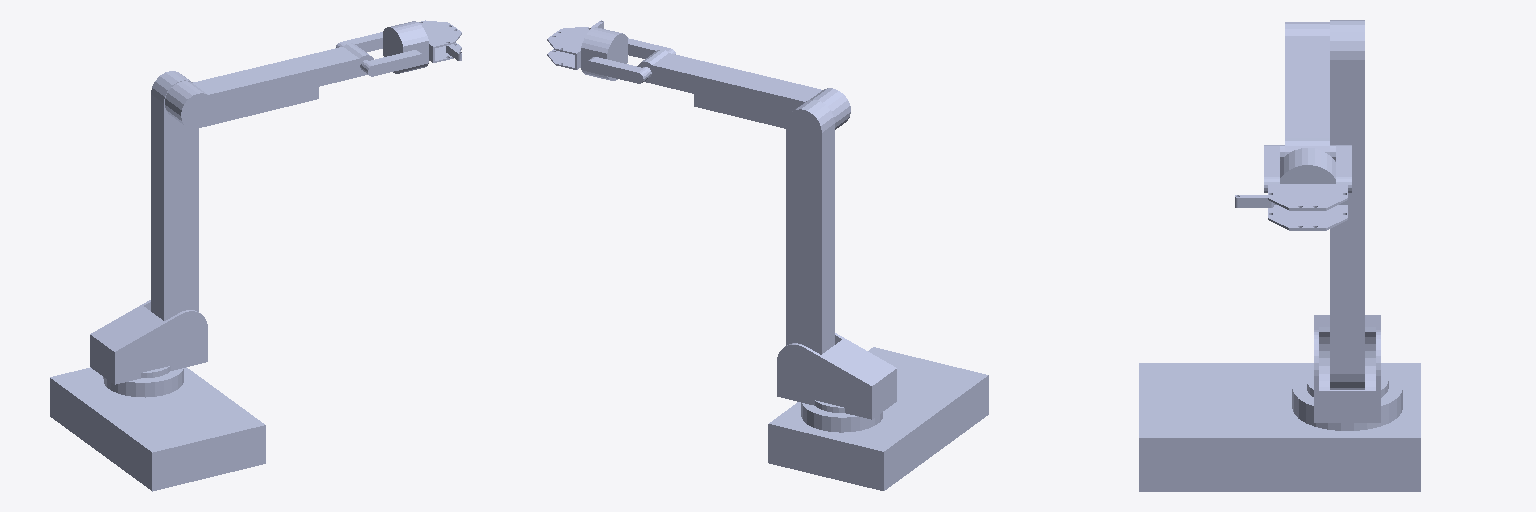
URDF robot description (urdf_brass23):
<?xml version="1.0" encoding="utf-8"?>
<!-- This URDF was automatically created by SolidWorks to URDF Exporter! Originally created by [author] ([email redacted]) 
     Commit Version: 1.6.0-4-g7f85cfe  Build Version: 1.6.7995.38578
     For more information, please see http://wiki.ros.org/sw_urdf_exporter -->
<robot
  name="urdf_brass23">

  <link name="world"/>
  <joint name="base_joint" type="fixed">
    <parent link="world"/>
    <child link="base_link"/>
    <origin rpy="0 0 0" xyz="0.0 0.0 0.0"/>
  </joint>

  <link
    name="base_link">
    <inertial>
      <origin
        xyz="-0.0195891869935232 -0.0769575203316984 0.0390553333294598"
        rpy="0 0 0" />
      <mass
        value="5.73138441310101" />
      <inertia
        ixx="0.0584695059646706"
        ixy="-0.000622271712138452"
        ixz="-0.000371100221057113"
        iyy="0.0249405833126223"
        iyz="-0.00145789372558152"
        izz="0.0770694774964865" />
    </inertial>
    <visual>
      <origin
        xyz="0 0 0"
        rpy="0 0 0" />
      <geometry>
        <mesh
          filename="package://urdf_brass23/meshes/base_link.STL" />
      </geometry>
      <material
        name="">
        <color
          rgba="0.792156862745098 0.819607843137255 0.933333333333333 1" />
      </material>
    </visual>
    <collision>
      <origin
        xyz="0 0 0"
        rpy="0 0 0" />
      <geometry>
        <mesh
          filename="package://urdf_brass23/meshes/base_link.STL" />
      </geometry>
    </collision>
  </link>
  <link
    name="link_1">
    <inertial>
      <origin
        xyz="-0.00356182087654455 1.38777878078145E-17 -0.00800624245087949"
        rpy="0 0 0" />
      <mass
        value="0.848214016521327" />
      <inertia
        ixx="0.00103959567914763"
        ixy="-2.74670115765387E-19"
        ixz="9.18211312032036E-05"
        iyy="0.00237992295197046"
        iyz="4.75457577451699E-21"
        izz="0.00243448325997905" />
    </inertial>
    <visual>
      <origin
        xyz="0 0 0"
        rpy="0 0 0" />
      <geometry>
        <mesh
          filename="package://urdf_brass23/meshes/link_1.STL" />
      </geometry>
      <material
        name="">
        <color
          rgba="0.792156862745098 0.819607843137255 0.933333333333333 1" />
      </material>
    </visual>
    <collision>
      <origin
        xyz="0 0 0"
        rpy="0 0 0" />
      <geometry>
        <mesh
          filename="package://urdf_brass23/meshes/link_1.STL" />
      </geometry>
    </collision>
  </link>
  <joint
    name="joint_base_link1"
    type="revolute">
    <origin
      xyz="0 0 0.1413"
      rpy="0 0 0" />
    <parent
      link="base_link" />
    <child
      link="link_1" />
    <axis
      xyz="0 0 -1" />
    <limit
      lower="-3.14"
      upper="3.14"
      effort="300"
      velocity="3" />
  </joint>
  <link
    name="link_2">
    <inertial>
      <origin
        xyz="-1.11022302462516E-16 0 0.2115"
        rpy="0 0 0" />
      <mass
        value="1.39301428762465" />
      <inertia
        ixx="0.0266408532435391"
        ixy="1.11457323264441E-19"
        ixz="9.44587968972521E-18"
        iyy="0.0269479441638445"
        iyz="-6.98781372432547E-20"
        izz="0.000736371489941689" />
    </inertial>
    <visual>
      <origin
        xyz="0 0 0"
        rpy="0 0 0" />
      <geometry>
        <mesh
          filename="package://urdf_brass23/meshes/link_2.STL" />
      </geometry>
      <material
        name="">
        <color
          rgba="0.792156862745098 0.819607843137255 0.933333333333333 1" />
      </material>
    </visual>
    <collision>
      <origin
        xyz="0 0 0"
        rpy="0 0 0" />
      <geometry>
        <mesh
          filename="package://urdf_brass23/meshes/link_2.STL" />
      </geometry>
    </collision>
  </link>
  <joint
    name="joint_link12"
    type="revolute">
    <origin
      xyz="0.06 0 0.019105"
      rpy="0 0 0" />
    <parent
      link="link_1" />
    <child
      link="link_2" />
    <axis
      xyz="0 1 0" />
    <limit
      lower="-0.0678"
      upper="1.57"
      effort="300"
      velocity="3" />
  </joint>
  <link
    name="link_3">
    <inertial>
      <origin
        xyz="0.137320910394112 -0.03457682365094 -0.000678095028483316"
        rpy="0 0 0" />
      <mass
        value="1.02500185175382" />
      <inertia
        ixx="0.000525009775022775"
        ixy="-2.15000546515497E-06"
        ixz="-0.000266801984813287"
        iyy="0.0107059373115838"
        iyz="-1.15089425773388E-07"
        izz="0.0107034550616419" />
    </inertial>
    <visual>
      <origin
        xyz="0 0 0"
        rpy="0 0 0" />
      <geometry>
        <mesh
          filename="package://urdf_brass23/meshes/link_3.STL" />
      </geometry>
      <material
        name="">
        <color
          rgba="0.792156862745098 0.819607843137255 0.933333333333333 1" />
      </material>
    </visual>
    <collision>
      <origin
        xyz="0 0 0"
        rpy="0 0 0" />
      <geometry>
        <mesh
          filename="package://urdf_brass23/meshes/link_3.STL" />
      </geometry>
    </collision>
  </link>
  <joint
    name="joint_link23"
    type="revolute">
    <origin
      xyz="0 -0.014412 0.423"
      rpy="0 0 0" />
    <parent
      link="link_2" />
    <child
      link="link_3" />
    <axis
      xyz="0 1 0" />
    <limit
      lower="-3.5"
      upper="0.47"
      effort="300"
      velocity="3" />
  </joint>
  <link
    name="link_4">
    <inertial>
      <origin
        xyz="0.0812648935995959 -0.0339716345103549 -0.000337970756351835"
        rpy="0 0 0" />
      <mass
        value="0.315715418364091" />
      <inertia
        ixx="0.000345424808414422"
        ixy="-3.93247408498288E-07"
        ixz="7.45108952662568E-07"
        iyy="0.000377121844568275"
        iyz="-6.32459247591559E-09"
        izz="0.000522765459090098" />
    </inertial>
    <visual>
      <origin
        xyz="0 0 0"
        rpy="0 0 0" />
      <geometry>
        <mesh
          filename="package://urdf_brass23/meshes/link_4.STL" />
      </geometry>
      <material
        name="">
        <color
          rgba="0.792156862745098 0.819607843137255 0.933333333333333 1" />
      </material>
    </visual>
    <collision>
      <origin
        xyz="0 0 0"
        rpy="0 0 0" />
      <geometry>
        <mesh
          filename="package://urdf_brass23/meshes/link_4.STL" />
      </geometry>
    </collision>
  </link>
  <joint
    name="joint_link34"
    type="revolute">
    <origin
      xyz="0.32206 0 0.0092107"
      rpy="0 0 0" />
    <parent
      link="link_3" />
    <child
      link="link_4" />
    <axis
      xyz="0 1 0" />
    <limit
      lower="-2"
      upper="2"
      effort="300"
      velocity="3" />
  </joint>
  <link
    name="end_effector">
    <inertial>
      <origin
        xyz="0.0270974503430043 5.55111512312578E-17 0"
        rpy="0 0 0" />
      <mass
        value="0.0433772870836576" />
      <inertia
        ixx="3.74711243635196E-05"
        ixy="-4.1001365407184E-20"
        ixz="1.30760711232383E-20"
        iyy="2.58699540224155E-05"
        iyz="1.17537053137252E-20"
        izz="4.93701113133164E-05" />
    </inertial>
    <visual>
      <origin
        xyz="0 0 0"
        rpy="0 0 0" />
      <geometry>
        <mesh
          filename="package://urdf_brass23/meshes/end_effector.STL" />
      </geometry>
      <material
        name="">
        <color
          rgba="0.792156862745098 0.819607843137255 0.933333333333333 1" />
      </material>
    </visual>
    <collision>
      <origin
        xyz="0 0 0"
        rpy="0 0 0" />
      <geometry>
        <mesh
          filename="package://urdf_brass23/meshes/end_effector.STL" />
      </geometry>
    </collision>
  </link>
  <joint
    name="joint_link4_ee"
    type="revolute">
    <origin
      xyz="0.1189 -0.034038 -0.00049933"
      rpy="0 0.0041123 0" />
    <parent
      link="link_4" />
    <child
      link="end_effector" />
    <axis
      xyz="1 0 0" />
    <limit
      lower="-3.14"
      upper="3.14"
      effort="300"
      velocity="3" />
  </joint>
  <link
    name="link_outer_right">
    <inertial>
      <origin
        xyz="2.04475325560338E-13 -0.02 0.00504999999999994"
        rpy="0 0 0" />
      <mass
        value="0.00436066372423022" />
      <inertia
        ixx="6.76814010778924E-07"
        ixy="5.94814221584996E-18"
        ixz="1.22009140351572E-23"
        iyy="9.49591877535052E-08"
        iyz="-2.03466283798545E-22"
        izz="6.31352558839343E-07" />
    </inertial>
    <visual>
      <origin
        xyz="0 0 0"
        rpy="0 0 0" />
      <geometry>
        <mesh
          filename="package://urdf_brass23/meshes/link_outer_right.STL" />
      </geometry>
      <material
        name="">
        <color
          rgba="0.792156862745098 0.819607843137255 0.933333333333333 1" />
      </material>
    </visual>
    <collision>
      <origin
        xyz="0 0 0"
        rpy="0 0 0" />
      <geometry>
        <mesh
          filename="package://urdf_brass23/meshes/link_outer_right.STL" />
      </geometry>
    </collision>
  </link>
  <joint
    name="joint_ee_outer_right"
    type="revolute">
    <origin
      xyz="0.030526 -0.04522 0"
      rpy="0 0 0" />
    <parent
      link="end_effector" />
    <child
      link="link_outer_right" />
    <axis
      xyz="0 0 1" />
    <limit
      lower="-3.14"
      upper="3.14"
      effort="300"
      velocity="3" />
  </joint>

  <transmission name="base_link_trans">
  <type>transmission_interface/SimpleTransmission</type>
    <joint name="joint_base_link1">
    <hardwareInterface>hardware_interface/PositionJointInterface</hardwareInterface>
    </joint>
    <actuator name="joint_base_link1_motor">
    <hardwareInterface>hardware_interface/PositionJointInterface</hardwareInterface>
        <mechanicalReduction>1</mechanicalReduction>
    </actuator>
  </transmission>

  <transmission name="link_1_trans">
  <type>transmission_interface/SimpleTransmission</type>
    <joint name="joint_link12">
    <hardwareInterface>hardware_interface/PositionJointInterface</hardwareInterface>
    </joint>
    <actuator name="joint_link12_motor">
    <hardwareInterface>hardware_interface/PositionJointInterface</hardwareInterface>
        <mechanicalReduction>1</mechanicalReduction>
    </actuator>
  </transmission>

  <transmission name="link_2_trans">
  <type>transmission_interface/SimpleTransmission</type>
    <joint name="joint_link23">
    <hardwareInterface>hardware_interface/PositionJointInterface</hardwareInterface>
    </joint>
    <actuator name="joint_link23_motor">
    <hardwareInterface>hardware_interface/PositionJointInterface</hardwareInterface>
        <mechanicalReduction>1</mechanicalReduction>
    </actuator>
  </transmission>

  <transmission name="link_3_trans">
  <type>transmission_interface/SimpleTransmission</type>
    <joint name="joint_link34">
    <hardwareInterface>hardware_interface/PositionJointInterface</hardwareInterface>
    </joint>
    <actuator name="joint_link34_motor">
    <hardwareInterface>hardware_interface/PositionJointInterface</hardwareInterface>
        <mechanicalReduction>1</mechanicalReduction>
    </actuator>
  </transmission>

  <transmission name="link_4_trans">
  <type>transmission_interface/SimpleTransmission</type>
    <joint name="joint_link4_ee">
    <hardwareInterface>hardware_interface/PositionJointInterface</hardwareInterface>
    </joint>
    <actuator name="joint_link4_ee_motor">
    <hardwareInterface>hardware_interface/PositionJointInterface</hardwareInterface>
        <mechanicalReduction>1</mechanicalReduction>
    </actuator>
  </transmission>

  <transmission name="link_outer_right_trans">
  <type>transmission_interface/SimpleTransmission</type>
    <joint name="joint_ee_outer_right">
    <hardwareInterface>hardware_interface/PositionJointInterface</hardwareInterface>
    </joint>
    <actuator name="joint_ee_outer_right">
    <hardwareInterface>hardware_interface/PositionJointInterface</hardwareInterface>
        <mechanicalReduction>1</mechanicalReduction>
    </actuator>
  </transmission>

  <gazebo>
    <plugin name="control" filename="libgazebo_ros_control.so">
      <robotNamespace>/</robotNamespace>
    </plugin>
  </gazebo>
  
</robot>

--- What the picture shows (computed from the rendered views, not written in the file) ---
The picture shows the robot from 3 angles, left to right: view 1: azimuth 30°, elevation 25°; view 2: azimuth 150°, elevation 25°; view 3: azimuth 270°, elevation 25°; orthographic projection.
Robot: urdf_brass23 — 8 links, 7 joints (6 revolute, 1 fixed); root link world; default pose: every joint at zero.
Visible links, largest first — view 1: base_link, link_2, link_3, link_1, link_4, end_effector; view 2: base_link, link_2, link_3, link_1, link_4, end_effector; view 3: base_link, link_2, link_3, link_1, end_effector, link_4.
Link boxes in pixels (x1,y1,x2,y2): base_link: (50,367,265,491); link_2: (151,71,198,320); link_3: (165,43,373,128); link_1: (90,300,207,384); link_4: (336,21,428,76); end_effector: (418,20,461,62); base_link: (768,347,988,490); link_2: (786,100,834,354); link_3: (637,49,850,129); link_1: (777,333,896,419); link_4: (581,27,675,83); end_effector: (547,27,591,69); base_link: (1139,363,1420,491); link_2: (1330,20,1364,389); link_3: (1280,22,1335,160); link_1: (1307,315,1388,422); end_effector: (1268,184,1347,230); link_4: (1264,145,1351,192).
Bounding box of the posed robot: 0.7021 × 0.343 × 0.6323 m (x, y, z).
7 mesh visuals loaded from 7 distinct referenced files (7 binary STL).